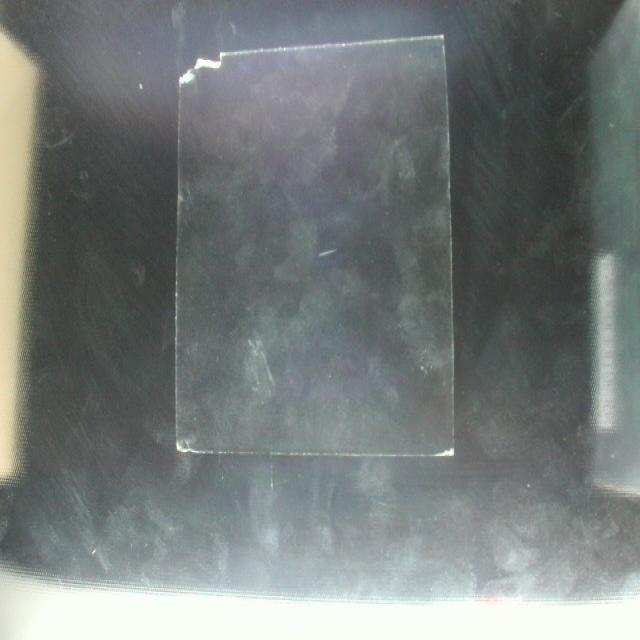edge_chip: (177, 48, 221, 104), (178, 428, 204, 470), (436, 430, 462, 465)
scratch: (319, 240, 339, 273)
